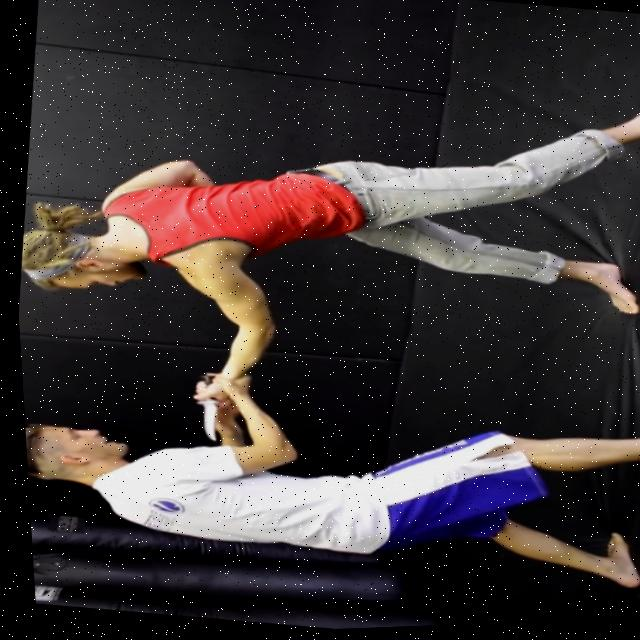knife: (179, 401, 217, 449)
